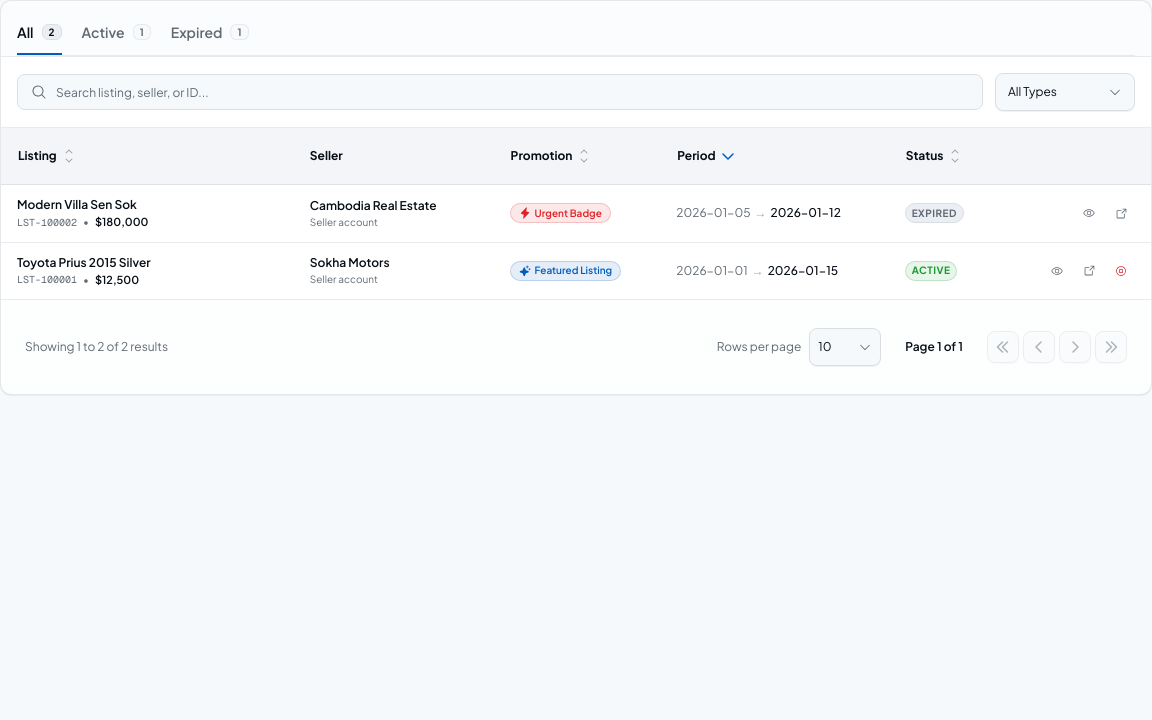
<PromotionTable /> › renders empty state when no items match the filter
Type "Nonexistent Listing XYZ" into the field with placeholder "Search listing, seller, or ID...". click: (500, 92)
box: [17, 74, 983, 110]
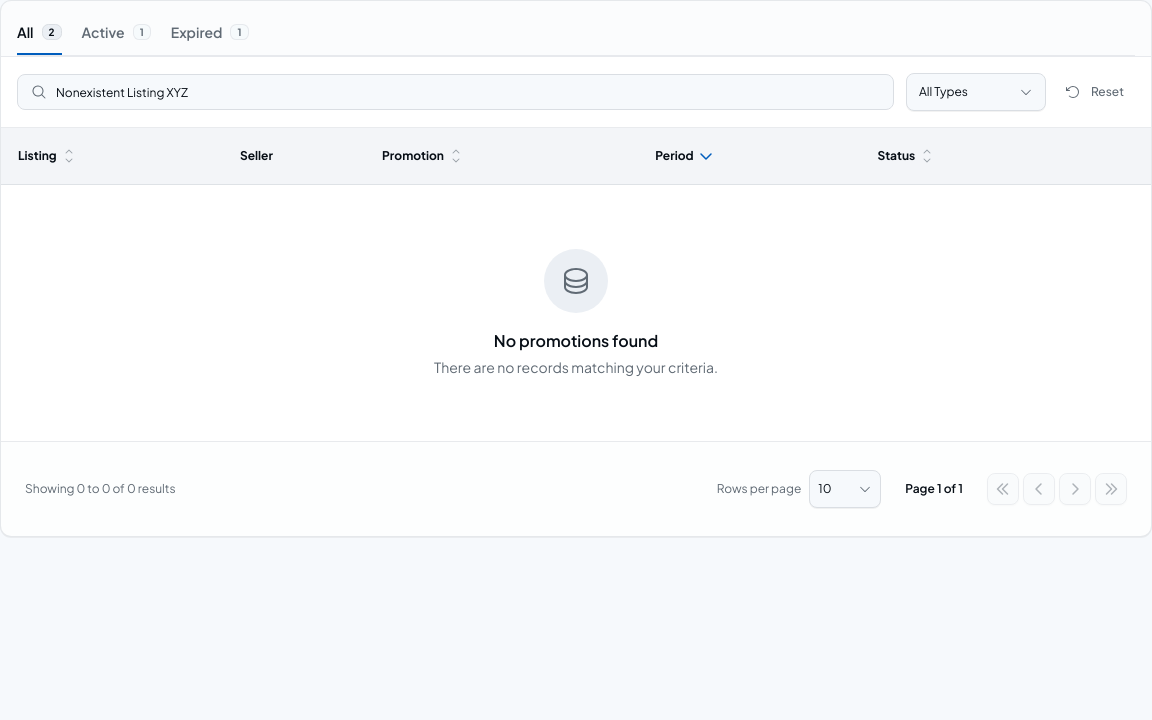
Result: the text "No promotions found" is shown at [494, 330, 658, 351]
